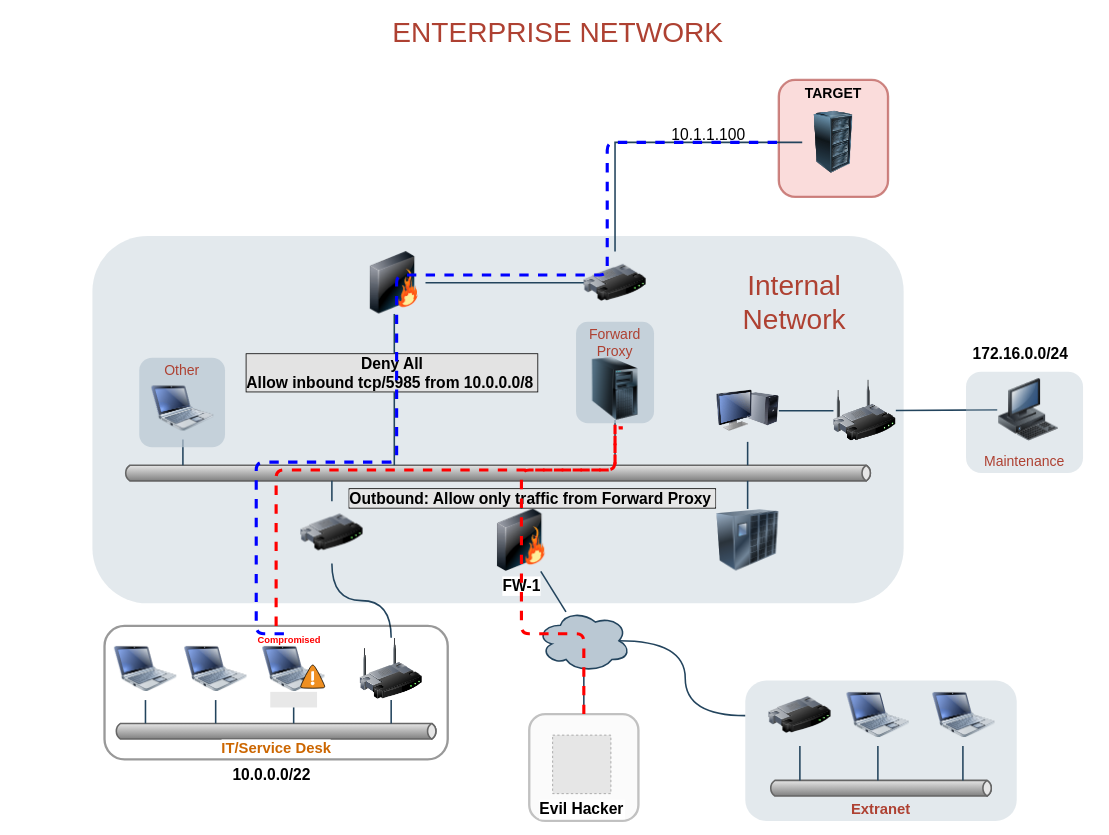
Image size: 1109x835. Some labels were removed from this diagram. Grey dashed boxes stand in for pictures. Here are the shapes that lost their labels. From the top down, the centre of each, then its label:
point (833, 142): PC-2
point (394, 282): FW-2
point (583, 640): Internet
point (293, 699): PC-1
